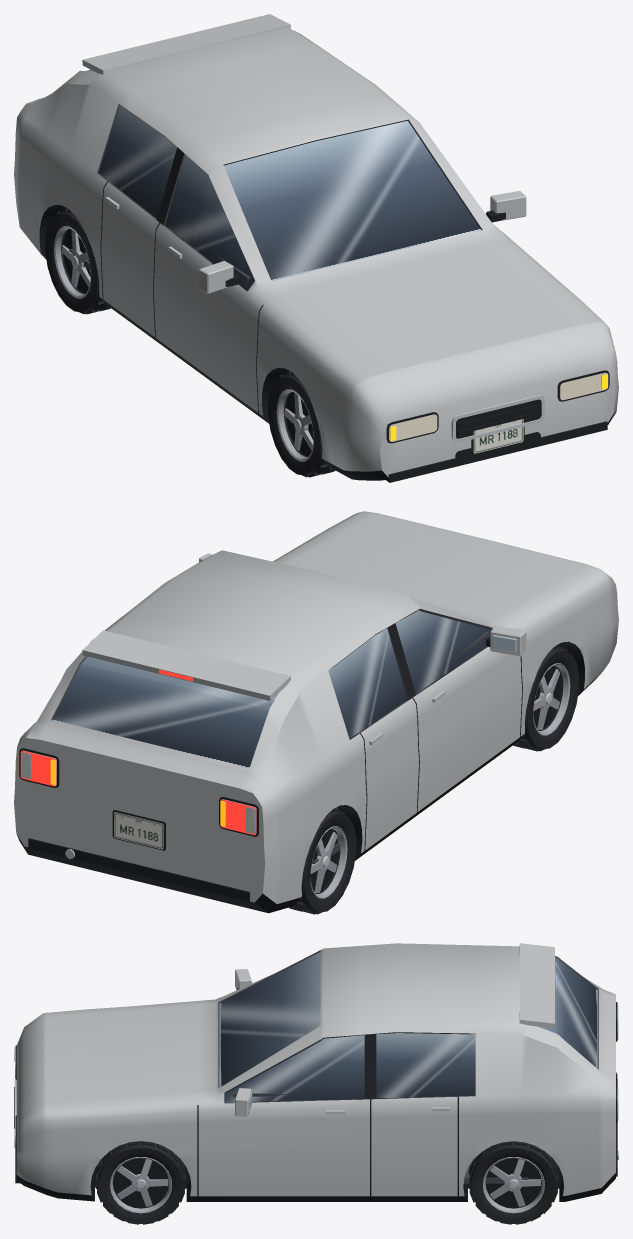
Rendered from Hatchback.fbx.
The picture shows the model from 3 angles, top to bottom: view 1: azimuth 30°, elevation 25°; view 2: azimuth 150°, elevation 25°; view 3: azimuth 270°, elevation 25°; orthographic projection. The views are drawn at different scales.
Parts seen in each view (by area): view 1: Body, Wheel_FR, Wheel_RR; view 2: Body, Wheel_FR, Wheel_RR; view 3: Body, Wheel_FL, Wheel_RL.
Boxes of the visible parts, left/top/right/bottom form: Body: left=14, top=14, right=618, bottom=482; Wheel_FR: left=268, top=371, right=335, bottom=477; Wheel_RR: left=45, top=208, right=110, bottom=314; Body: left=14, top=511, right=618, bottom=913; Wheel_FR: left=513, top=645, right=578, bottom=751; Wheel_RR: left=289, top=808, right=356, bottom=914; Body: left=14, top=943, right=618, bottom=1201; Wheel_FL: left=96, top=1141, right=186, bottom=1224; Wheel_RL: left=469, top=1141, right=558, bottom=1224.
Size of the model in its own units: 2.13 by 1.47 by 4.14.
